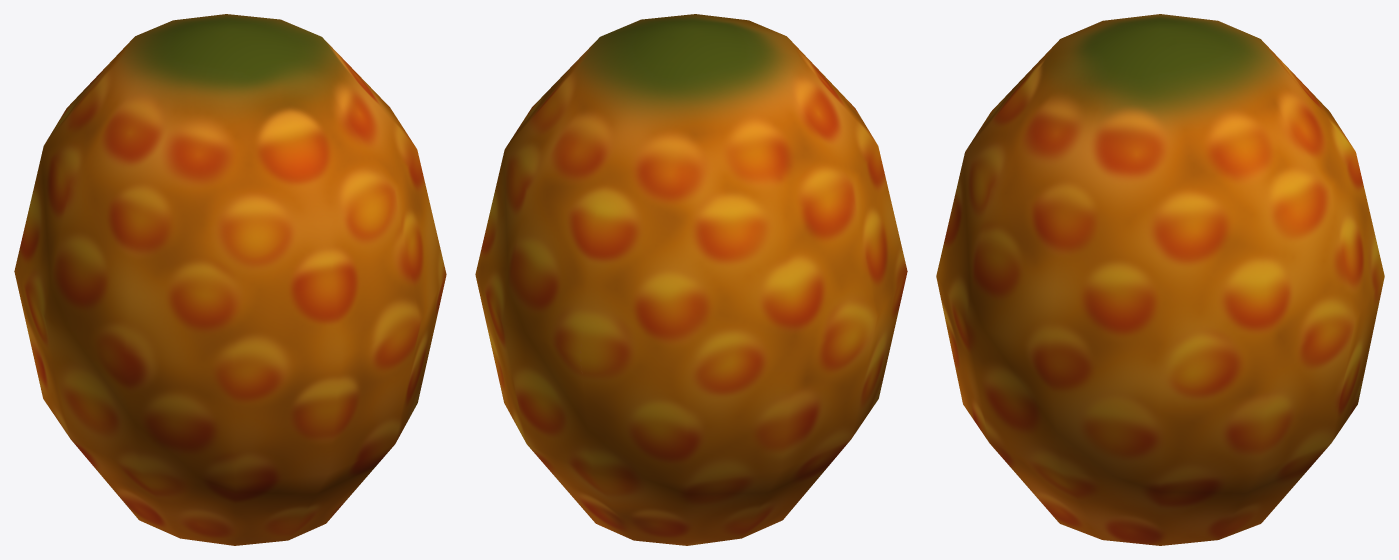
File: pineremove.fbx
3 views of the same model, side by side, from view 1: azimuth 30°, elevation 25°; view 2: azimuth 150°, elevation 25°; view 3: azimuth 270°, elevation 25° (orthographic).
Parts seen in each view (by area): view 1: Pineapple001; view 2: Pineapple001; view 3: Pineapple001.
Part boxes in pixels (x1,y1,x2,y2): Pineapple001: (14,14,446,545); Pineapple001: (475,14,907,545); Pineapple001: (936,14,1384,545).
Size of the model in its own units: 90.24 by 109 by 93.9.
